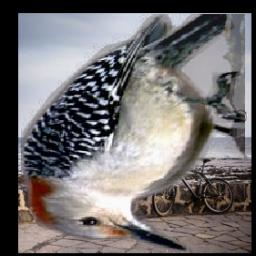Woodpecker: (21, 15, 245, 252)
